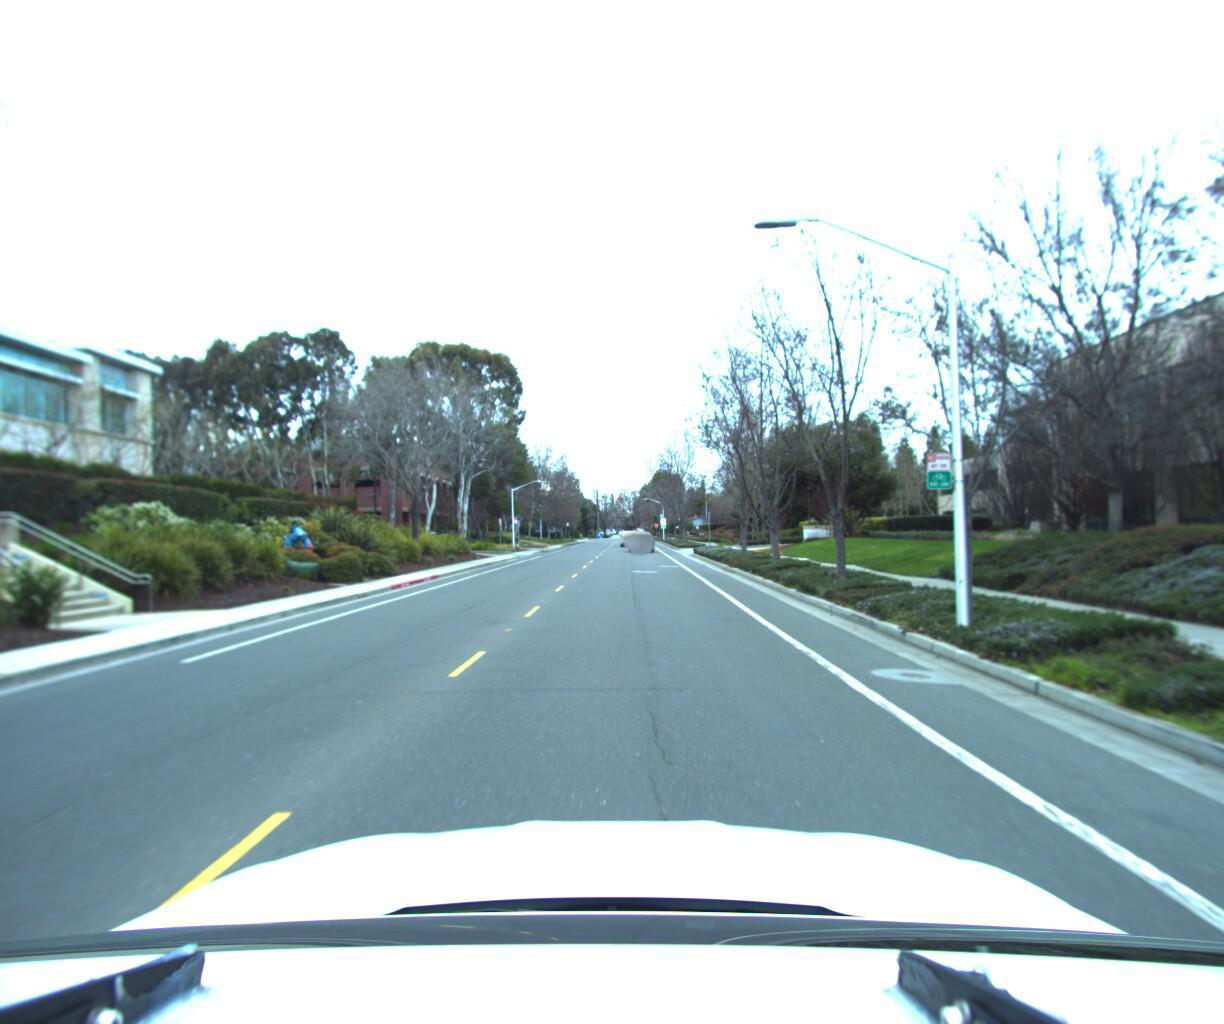car: (627, 528, 654, 548), (617, 527, 639, 543)
